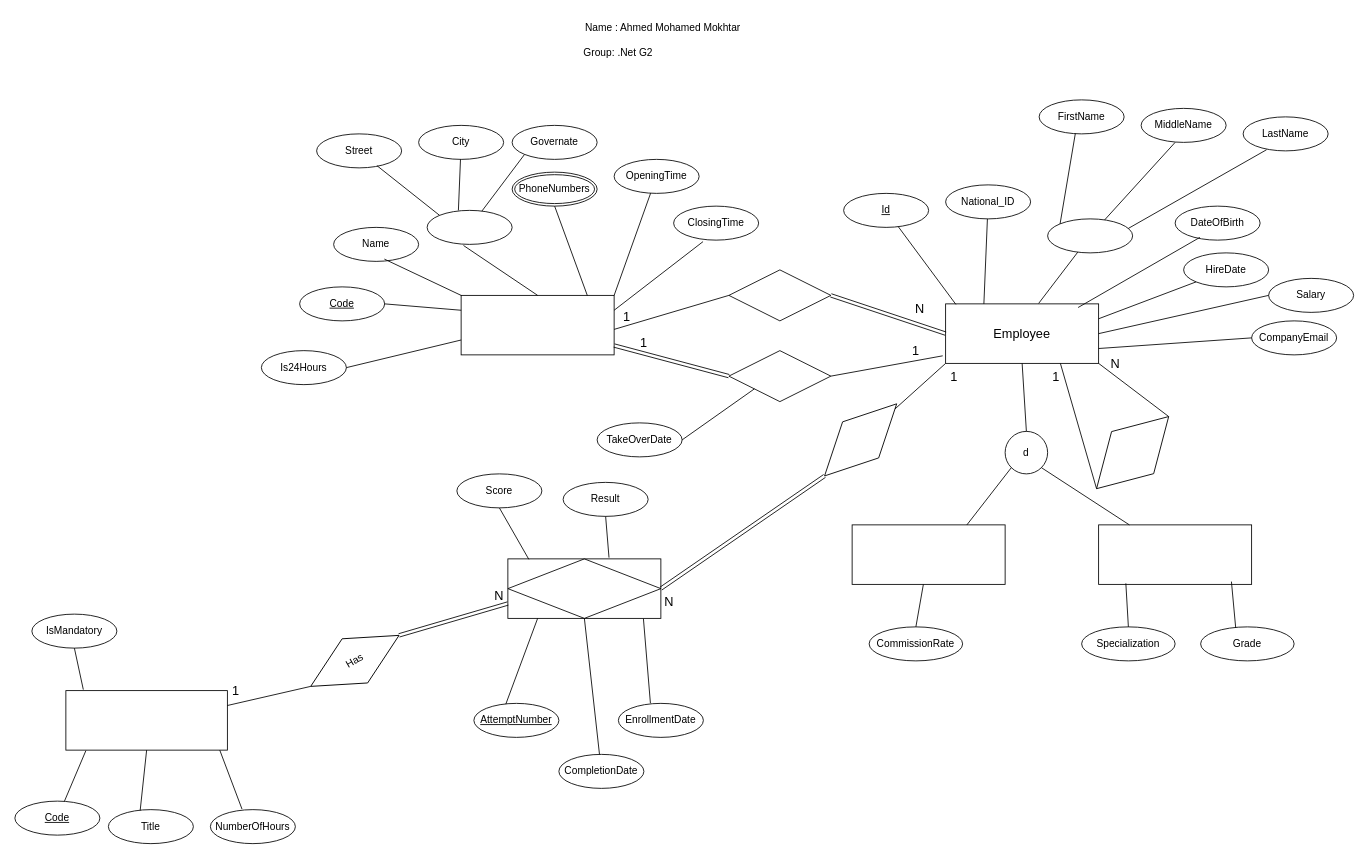
Image size: 1369x859. Some labels were removed from this diagram. Here are the shapes that lost their labels. From the top down, the centre of each, then its label:
At [469,227]: "Address".
At [1090,235]: "FullName".
At [779,295]: "Assigned_To".
At [537,325]: "Branch".
At [779,376]: "Manages".
At [860,439]: "Makes".
At [1132,452]: "Supervises".
At [928,554]: "Rental_Agent".
At [1175,554]: "Mechanic".
At [584,588]: "Training_Attempt".
At [146,720]: "Course".
